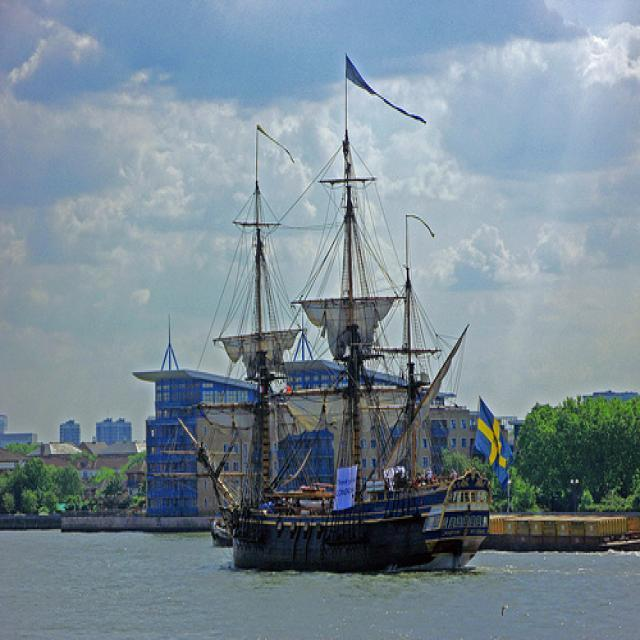Ship: (183, 114, 509, 576)
